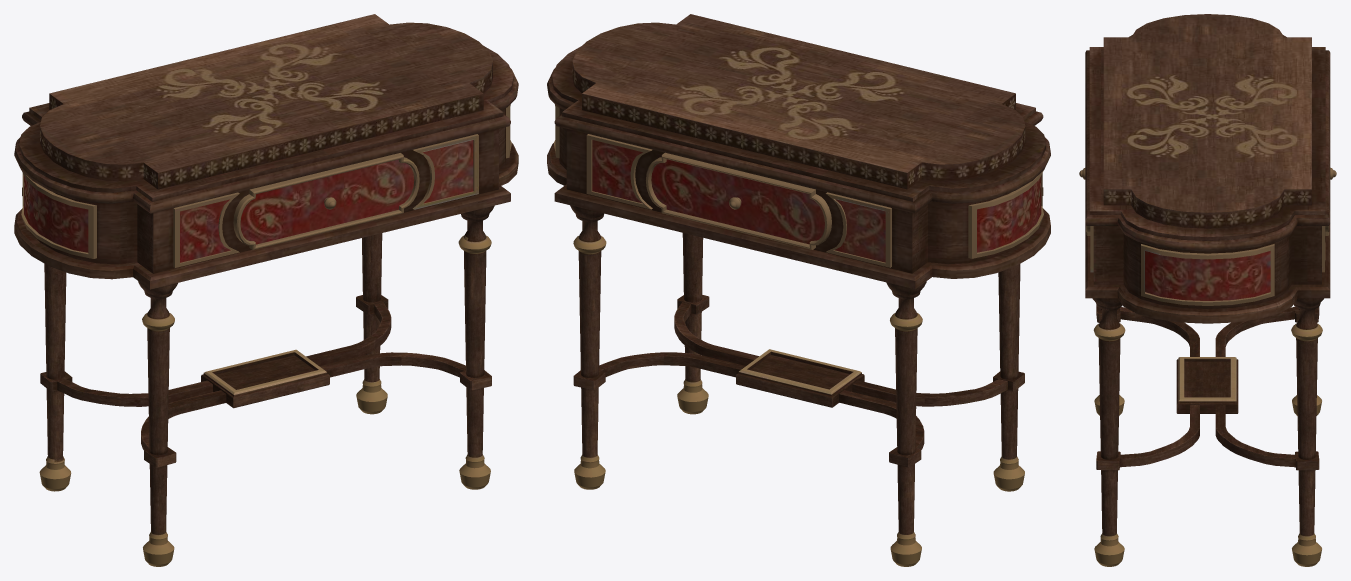
Rendered from console.glb.
3 renders of one model, left to right at view 1: azimuth 30°, elevation 25°; view 2: azimuth 150°, elevation 25°; view 3: azimuth 270°, elevation 25°, orthographic. The views are drawn at different scales.
Parts seen in each view (by area): view 1: pasted__pCube12, group31_pasted__group28_pasted__pasted__pCylinder17, pCube8; view 2: pasted__pCube12, group31_pasted__group28_pasted__pasted__pCylinder17, pCube8; view 3: pasted__pCube12, group31_pasted__group28_pasted__pasted__pCylinder17, pCube8.
Boxes of the visible parts, bbox=[...] form: pasted__pCube12: bbox=[14, 14, 518, 289]; group31_pasted__group28_pasted__pasted__pCylinder17: bbox=[39, 205, 494, 566]; pCube8: bbox=[40, 295, 491, 467]; pasted__pCube12: bbox=[547, 14, 1050, 289]; group31_pasted__group28_pasted__pasted__pCylinder17: bbox=[570, 205, 1024, 566]; pCube8: bbox=[573, 294, 1024, 467]; pasted__pCube12: bbox=[1079, 14, 1336, 323]; group31_pasted__group28_pasted__pasted__pCylinder17: bbox=[1092, 298, 1323, 566]; pCube8: bbox=[1096, 305, 1319, 470].
Bounding box in the file's own units: 0.4243 × 0.34 × 0.21.
Materials: 3 (3 with a texture image).
